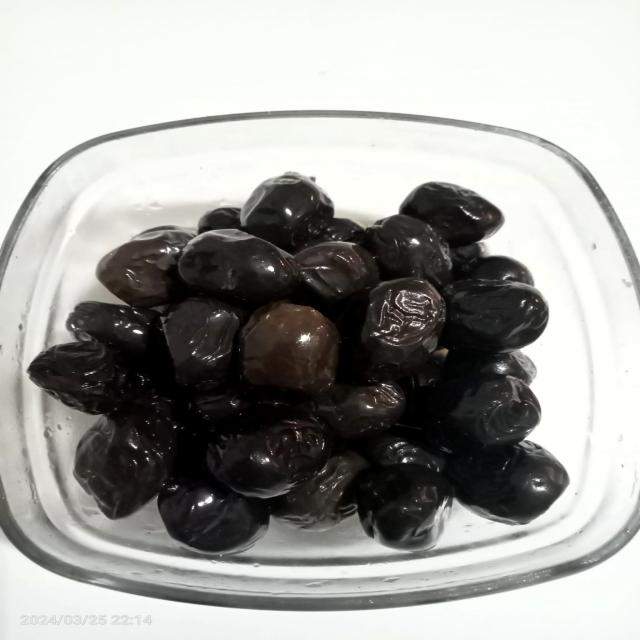olive: (203, 286, 358, 410), (325, 262, 467, 389), (59, 397, 198, 525), (189, 402, 351, 504), (171, 220, 314, 309)
